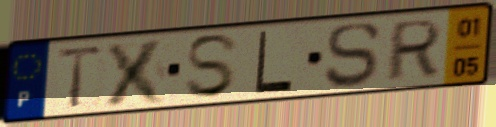L: (251, 28, 295, 96)
R: (382, 16, 446, 85)
S: (322, 19, 384, 91), (182, 31, 242, 101)
T: (54, 42, 108, 111)
X: (101, 35, 171, 109)
